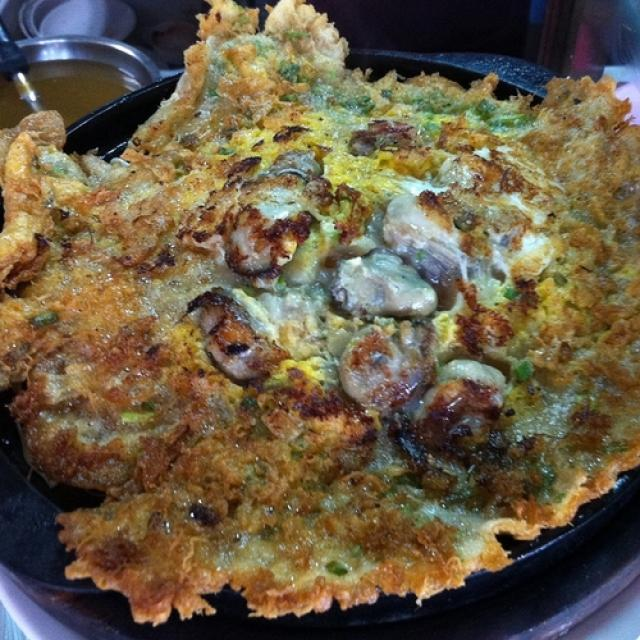炸货点心: (29, 28, 617, 618)
蛋糕甜品: (29, 28, 617, 618)
